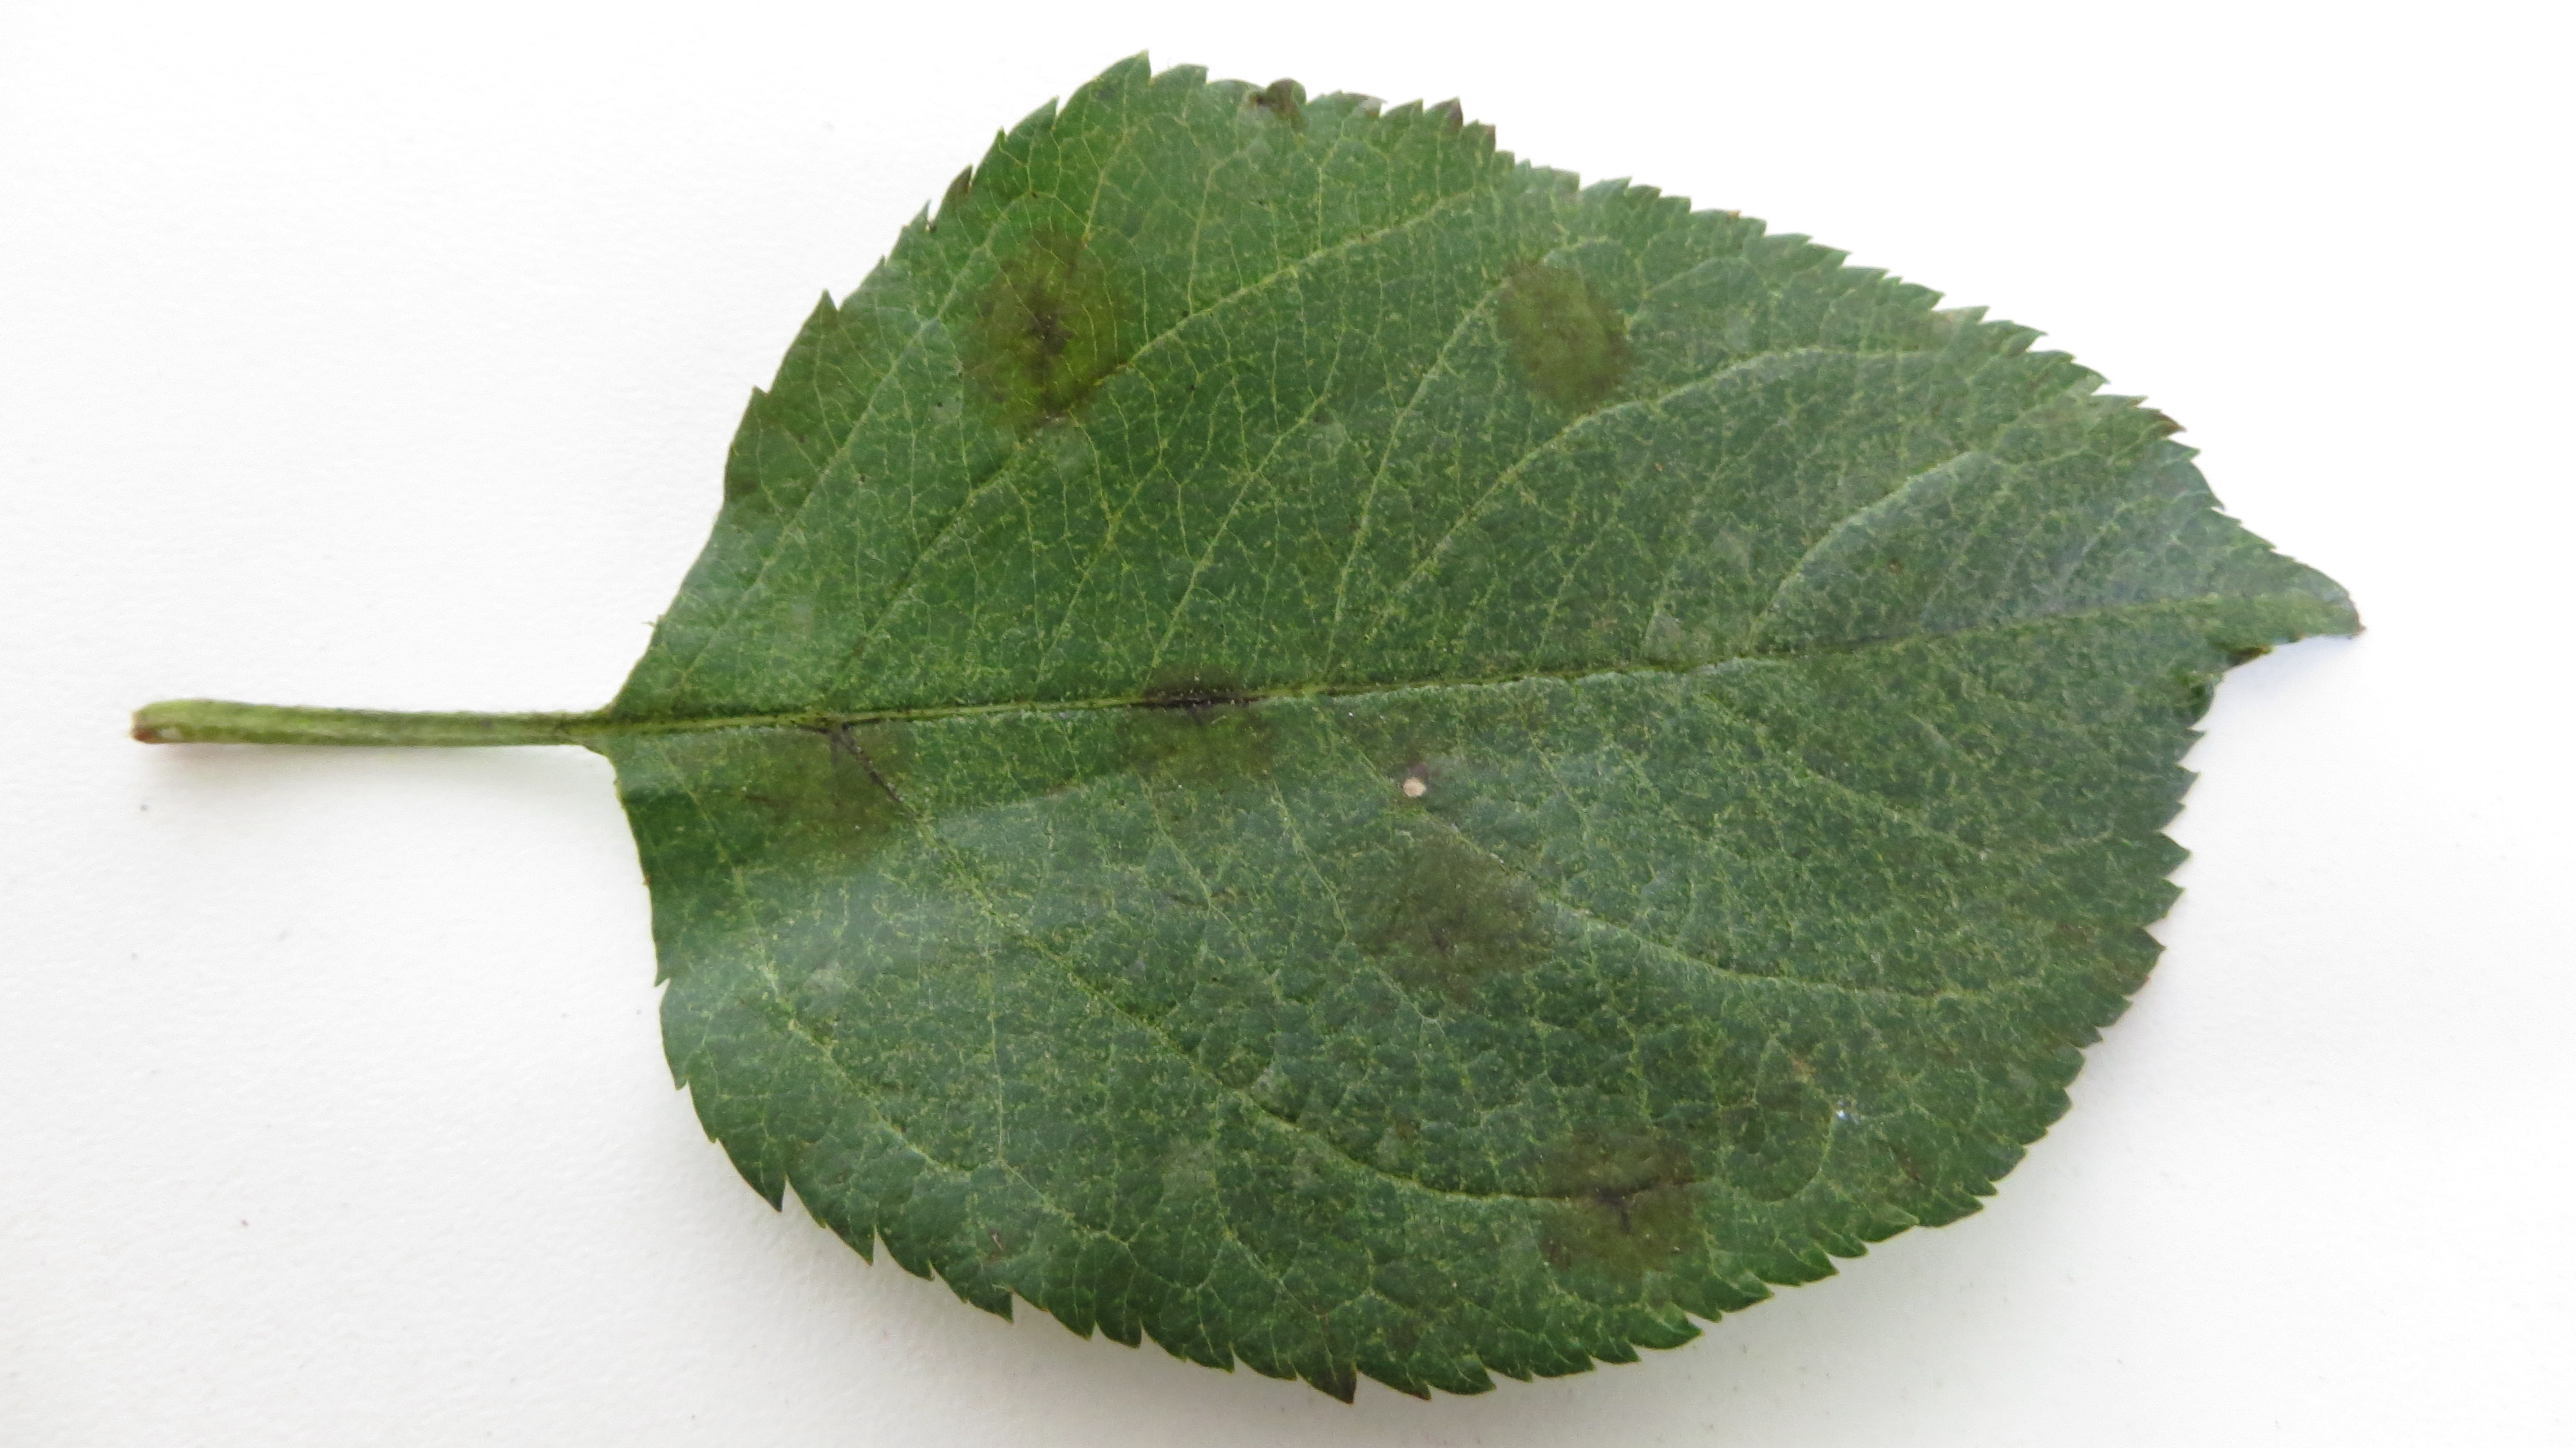sarna: (1525, 1089, 1714, 1308), (1316, 834, 1557, 1002), (954, 225, 1134, 441), (773, 664, 927, 844), (1490, 257, 1647, 423), (1113, 651, 1272, 766), (1375, 724, 1472, 823), (1247, 67, 1318, 138)
